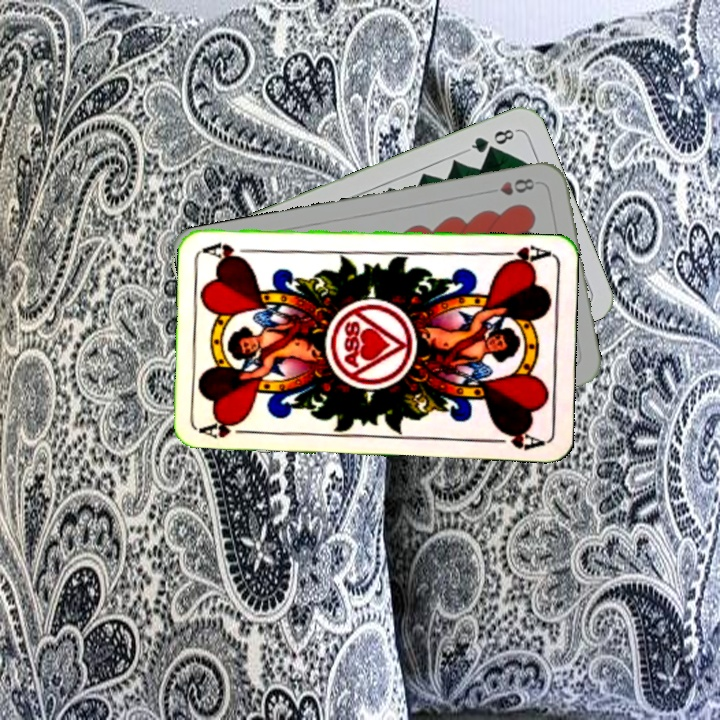G8: (463, 125, 520, 156)
H8: (482, 174, 537, 198)
HA: (493, 241, 552, 268), (198, 418, 257, 441)
